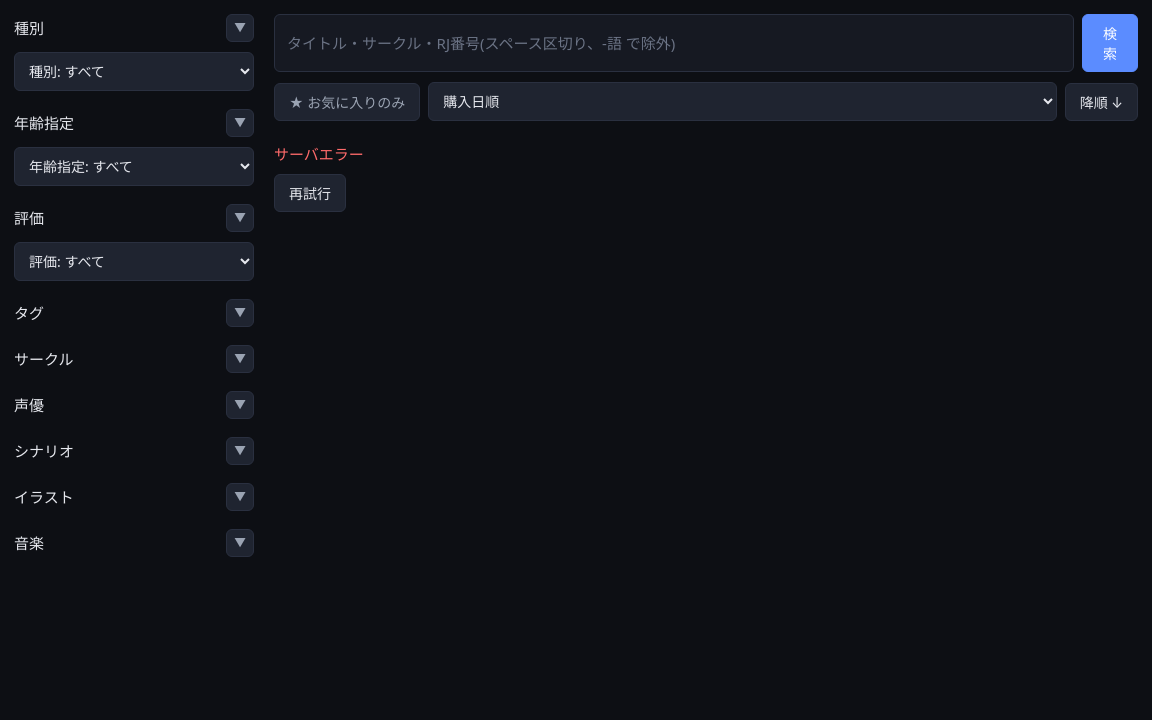
Test case: fetch 失敗時の再試行導線 (issue #70) › 再試行クリックで再 fetch され、成功すると一覧表示に戻る
Expected: the text "サーバエラー" is shown, [274, 143, 364, 166]
Click the button "再試行" at (310, 192), box [274, 174, 346, 212]
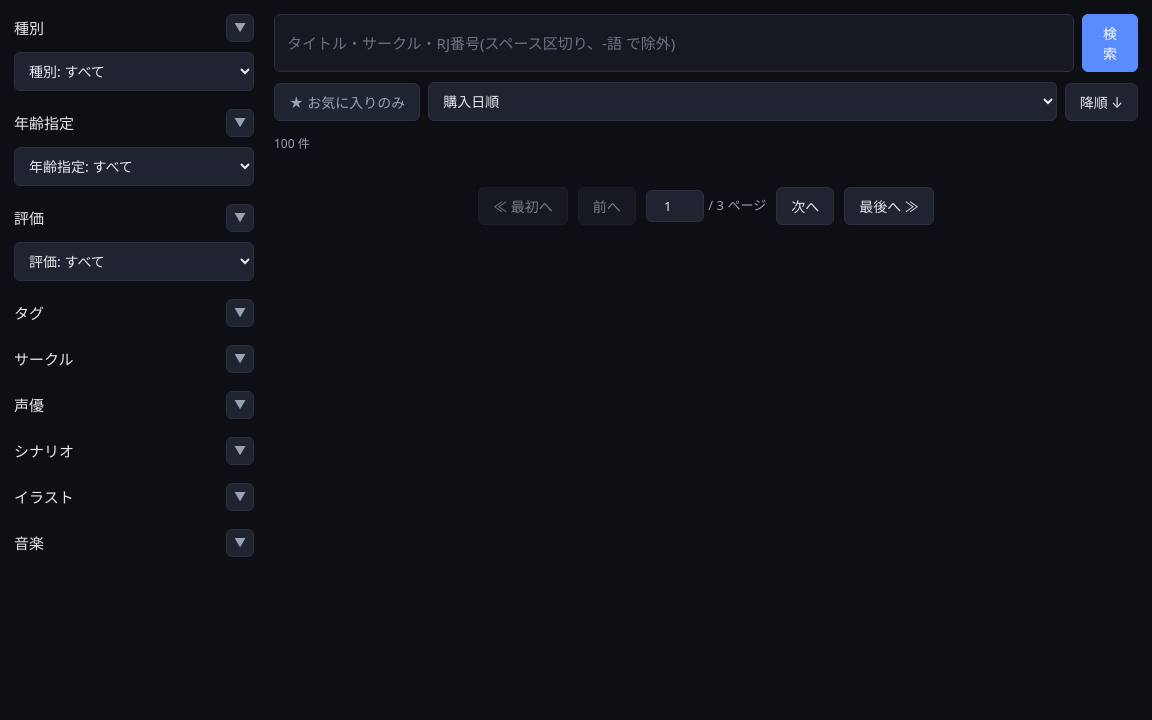
Expected: the text "100 件" is shown, [274, 135, 310, 152]
Expected: the text "サーバエラー" is gone
